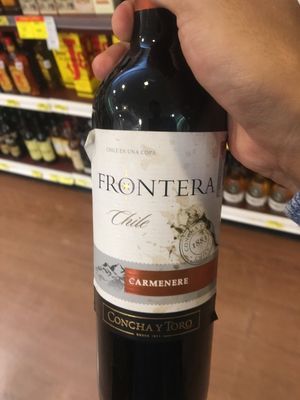frontera carmenere: (76, 17, 238, 400)
